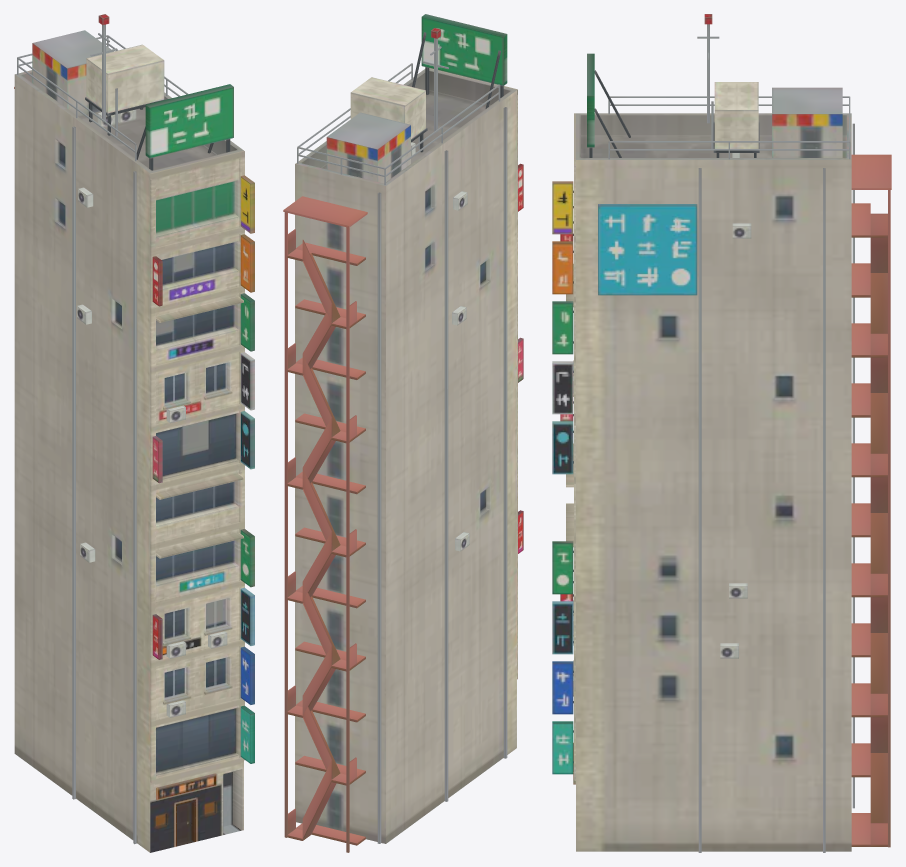
The model's file is tokyo_zakkyo_e.glb.
3 renders of one model, left to right at view 1: azimuth 30°, elevation 25°; view 2: azimuth 150°, elevation 25°; view 3: azimuth 270°, elevation 25°, orthographic. The views are drawn at different scales.
Visible parts, largest first — view 1: tokyo_zakkyo_e; view 2: tokyo_zakkyo_e; view 3: tokyo_zakkyo_e.
Part boxes in pixels (x1,y1,x2,y2): tokyo_zakkyo_e: (14, 14, 254, 852); tokyo_zakkyo_e: (283, 14, 523, 852); tokyo_zakkyo_e: (552, 14, 891, 852).
Bounding box in the file's own units: 5.64 × 39.95 × 15.37.
1 material, 1 textured.
